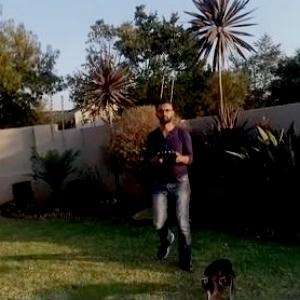follow: (142, 96, 199, 276)
null: (186, 260, 242, 299)
